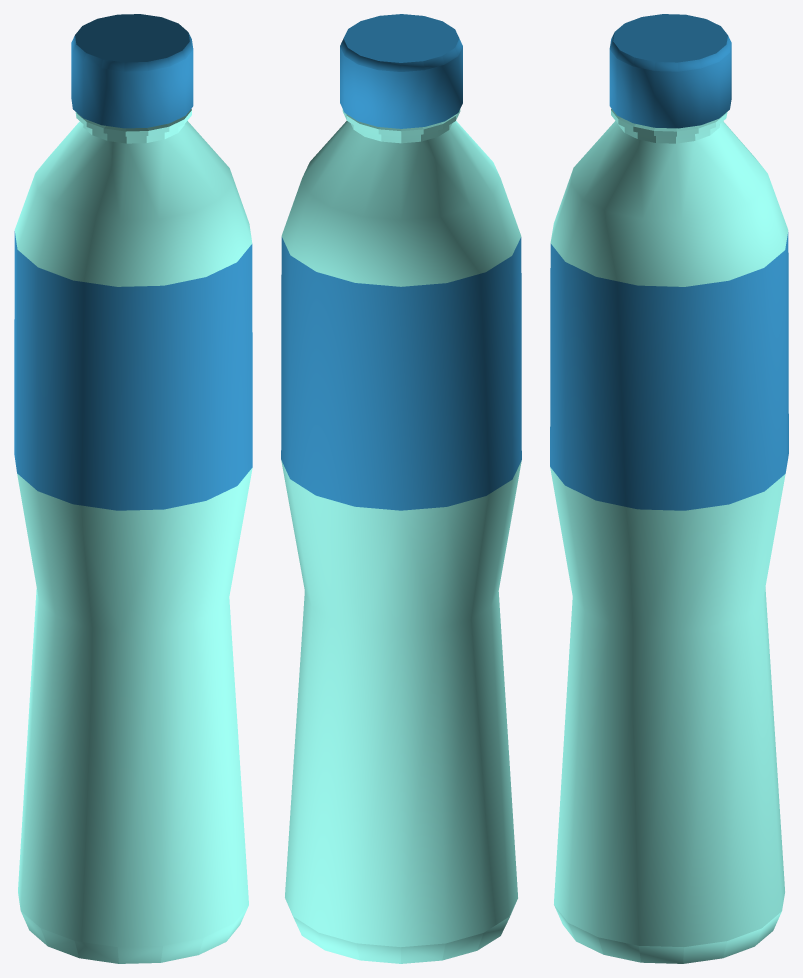
File: Mineral Water Bottle.fbx
The picture shows the model from 3 angles, left to right: view 1: azimuth 30°, elevation 25°; view 2: azimuth 150°, elevation 25°; view 3: azimuth 270°, elevation 25°; orthographic projection.
Parts seen in each view (by area): view 1: Node 0; view 2: Node 0; view 3: Node 0.
Part boxes in pixels (<box>): Node 0: <box>14,14,252,963</box>; Node 0: <box>281,14,521,963</box>; Node 0: <box>550,14,788,963</box>.
Size of the model in its own units: 0.0432 by 0.1758 by 0.0432.
